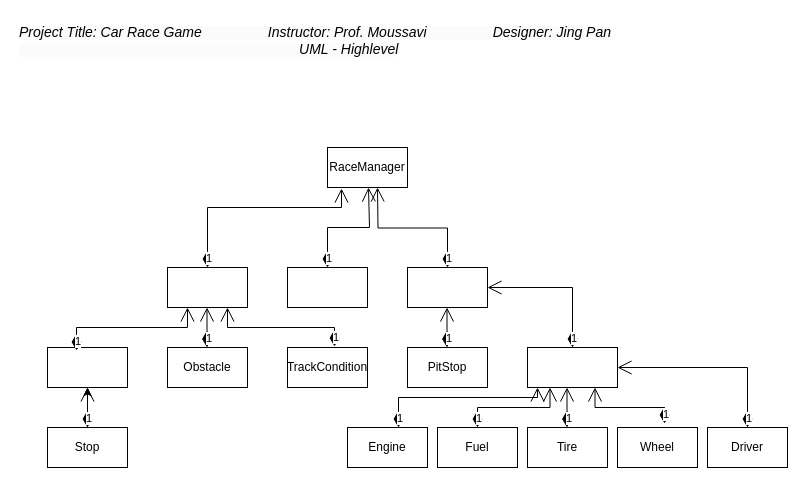
The diagram is 805 pixels wide and 485 high, and some of its shapes have lost their labels. The shapes that lost their labels are listed below. From the top down, each one's centre as x and y in pixels, then its label:
At (207,287): "TrackManager".
At (327,287): "LeaderBoard".
At (447,287): "CarManager".
At (87,367): "Path".
At (572,367): "Car".
